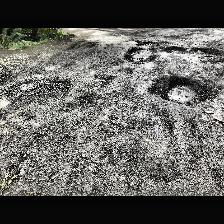pothole: (0, 74, 74, 106), (152, 76, 210, 106), (123, 46, 159, 62), (190, 46, 222, 64), (163, 46, 185, 54)
